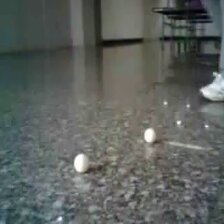w: (73, 152, 88, 172), (142, 128, 156, 144)
